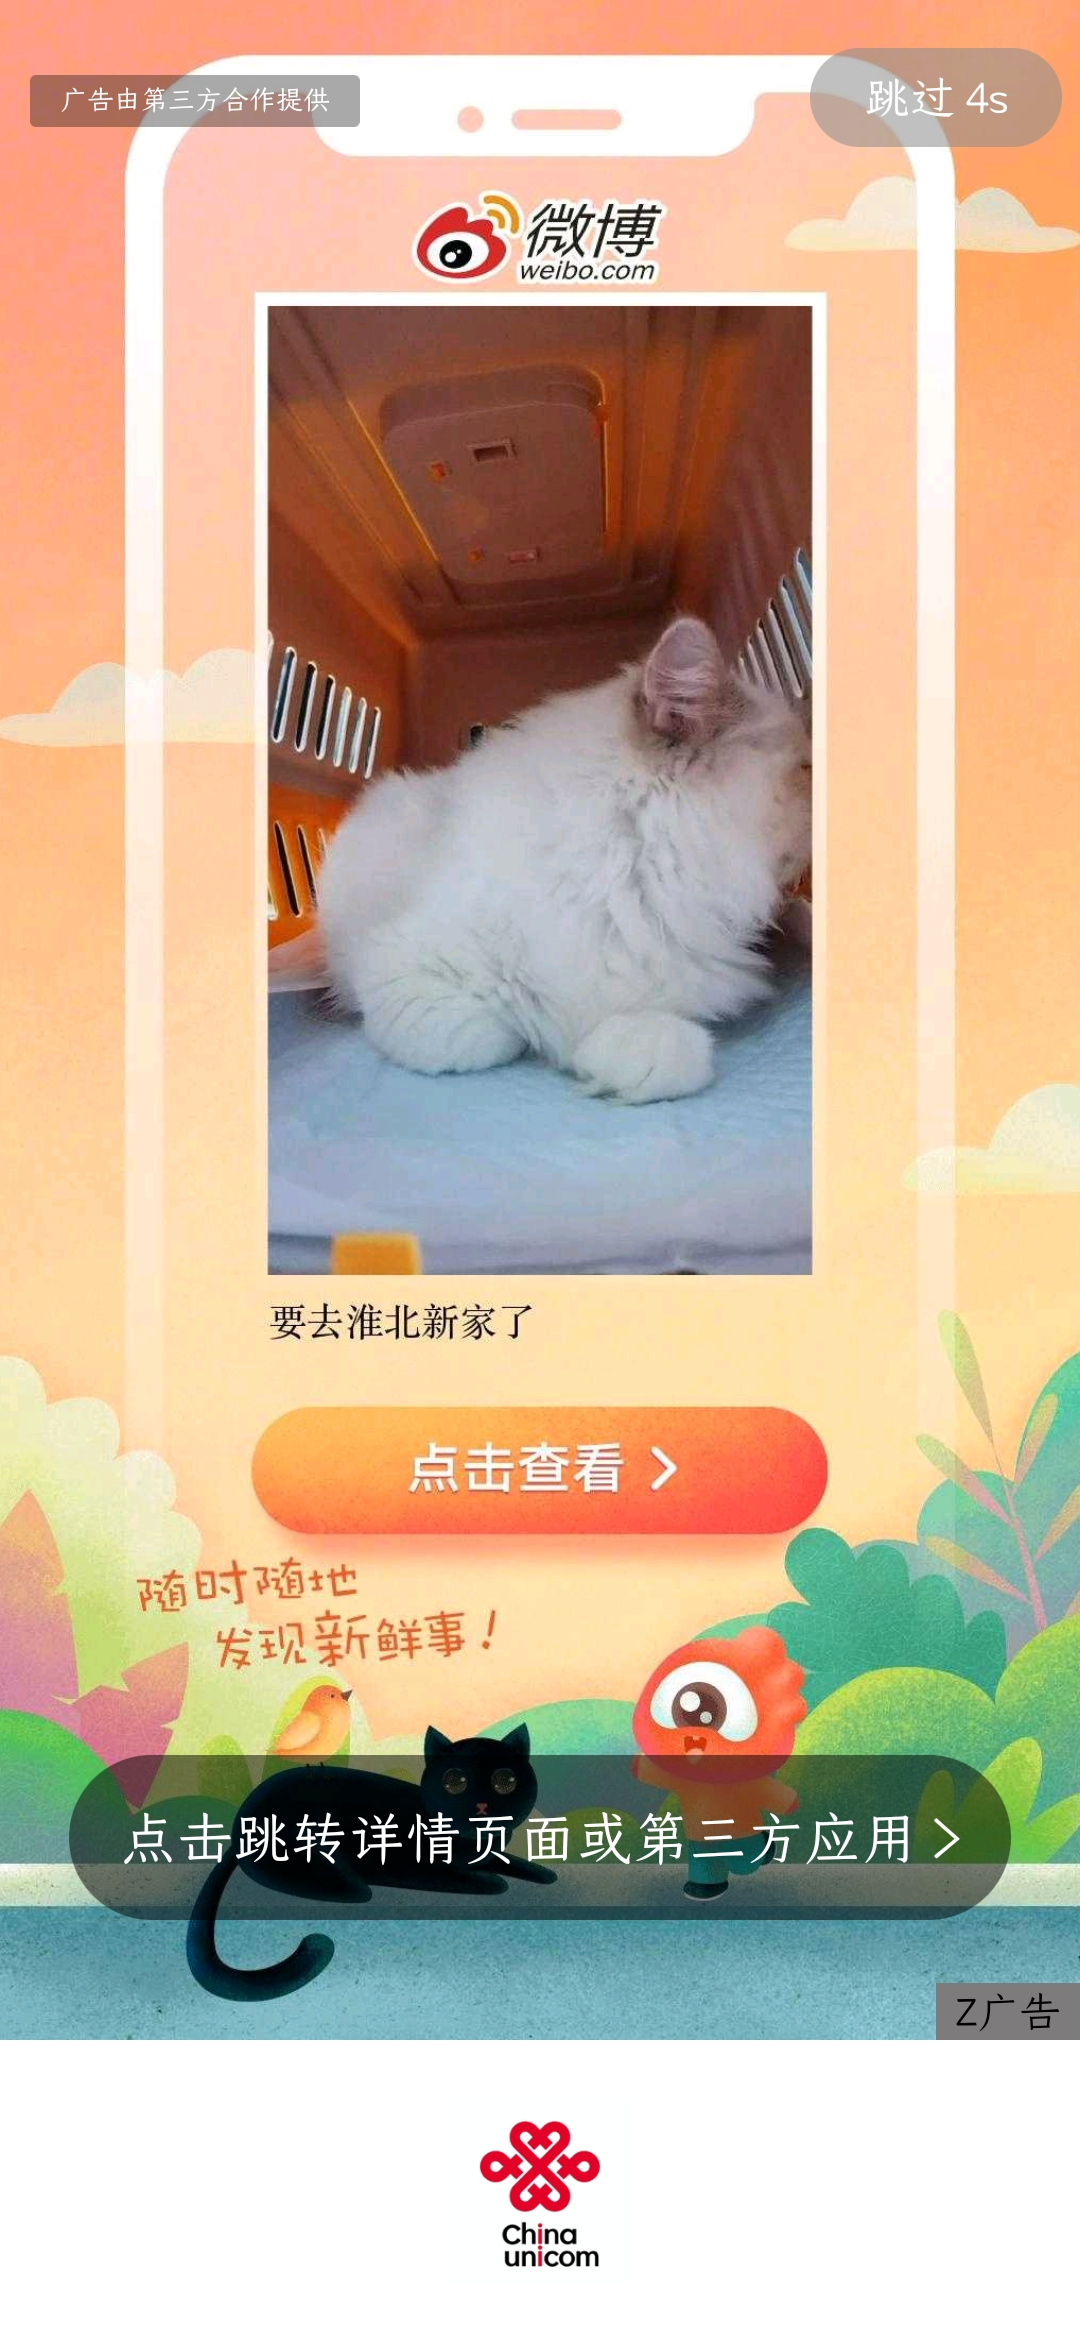skip: (844, 54, 1023, 140)
